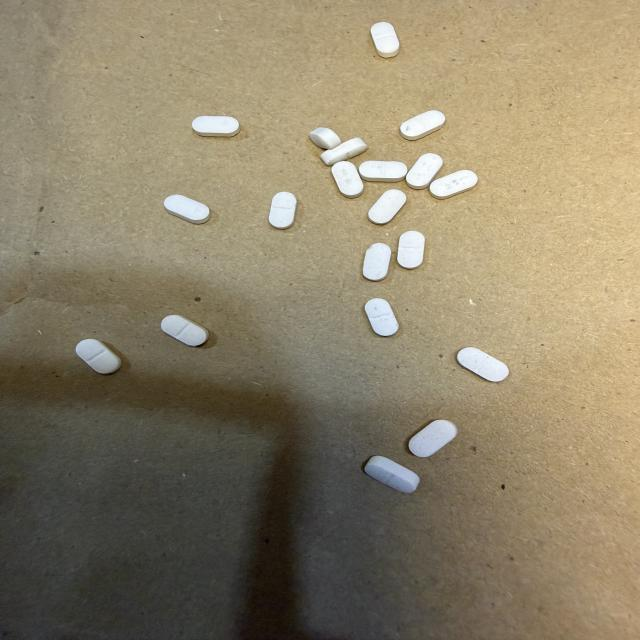pill: (365, 456, 419, 493), (409, 420, 457, 457), (457, 348, 508, 382), (76, 339, 121, 374), (161, 315, 208, 346), (430, 170, 477, 199), (320, 138, 368, 166), (364, 298, 399, 336), (400, 110, 445, 139), (368, 190, 406, 224), (164, 195, 210, 223), (406, 154, 442, 189), (332, 161, 363, 198), (363, 243, 391, 281), (269, 192, 296, 229), (398, 231, 424, 269), (371, 22, 399, 57), (359, 161, 407, 181), (192, 116, 239, 136), (310, 128, 341, 149)
